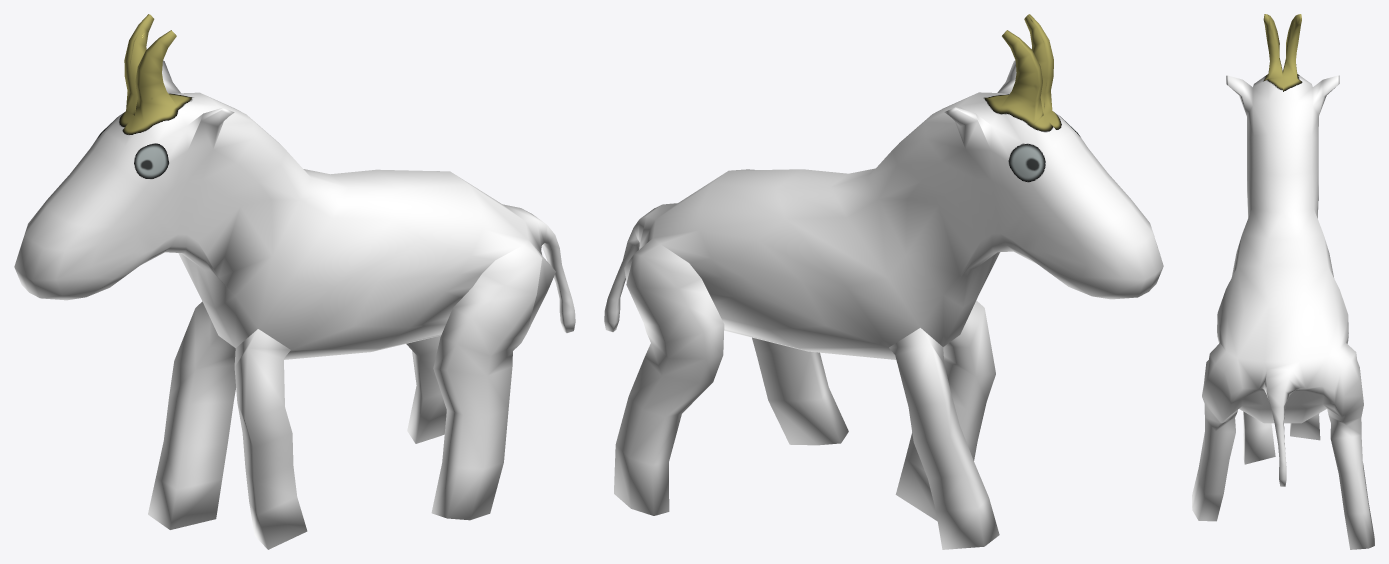
The model's file is goatAnim_000003.obj.
The picture shows the model from 3 angles, left to right: view 1: azimuth 30°, elevation 25°; view 2: azimuth 150°, elevation 25°; view 3: azimuth 270°, elevation 25°; orthographic projection. The views are drawn at different scales.
Visible parts, largest first — view 1: Cube; view 2: Cube; view 3: Cube.
Boxes of the visible parts, bbox=[...] form: Cube: bbox=[14, 14, 575, 549]; Cube: bbox=[604, 14, 1163, 549]; Cube: bbox=[1192, 14, 1374, 549].
Bounding box in the file's own units: 1.31 × 1.2 × 0.4842.
